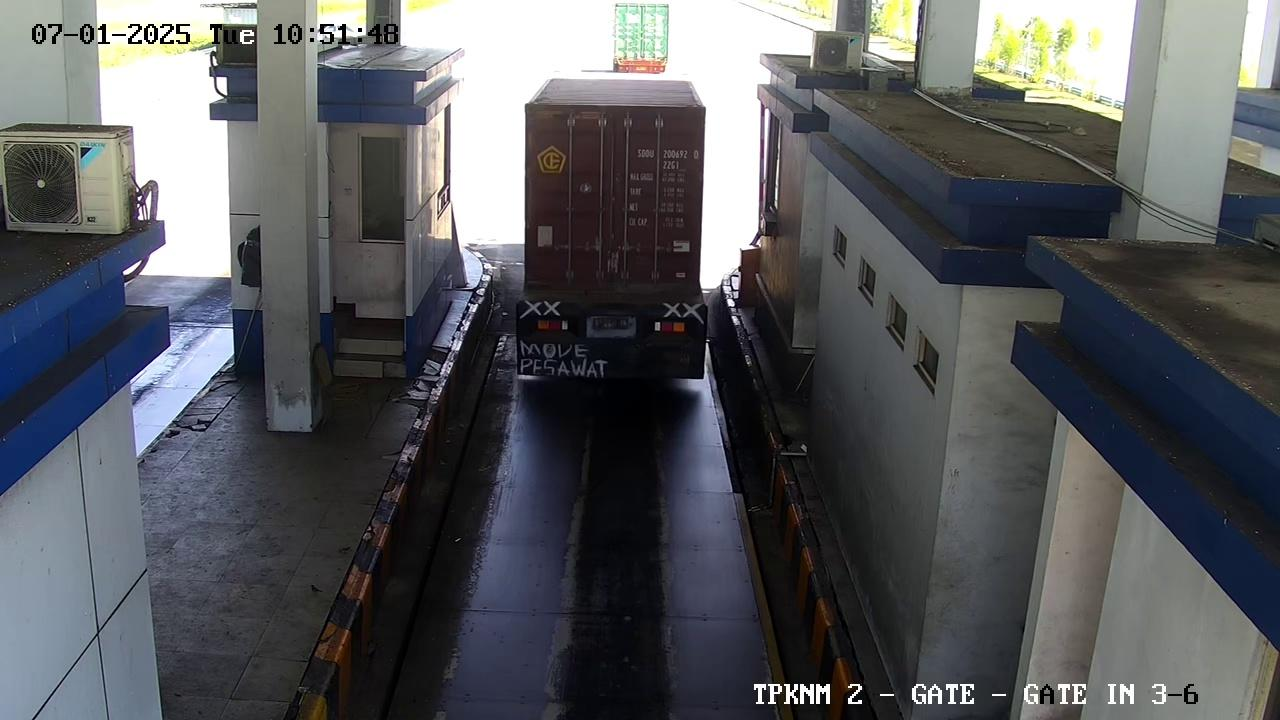Container_ID: (627, 143, 704, 175)
